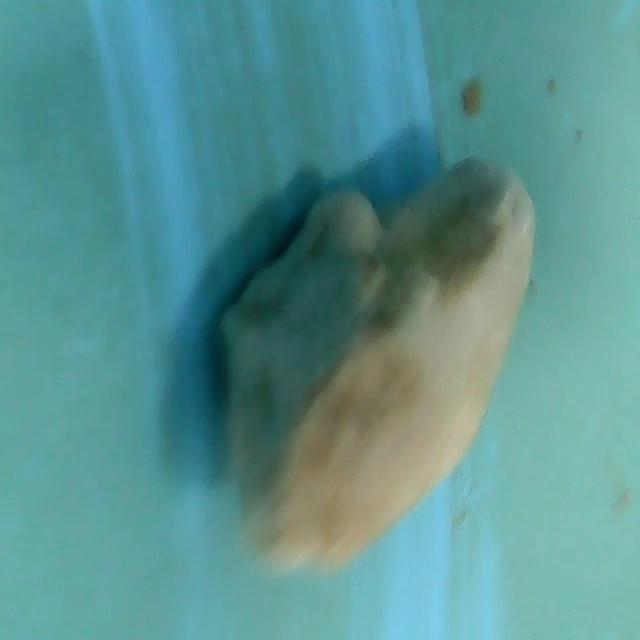rock: (212, 158, 539, 590)
